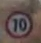limite 70: (4, 10, 32, 38)
